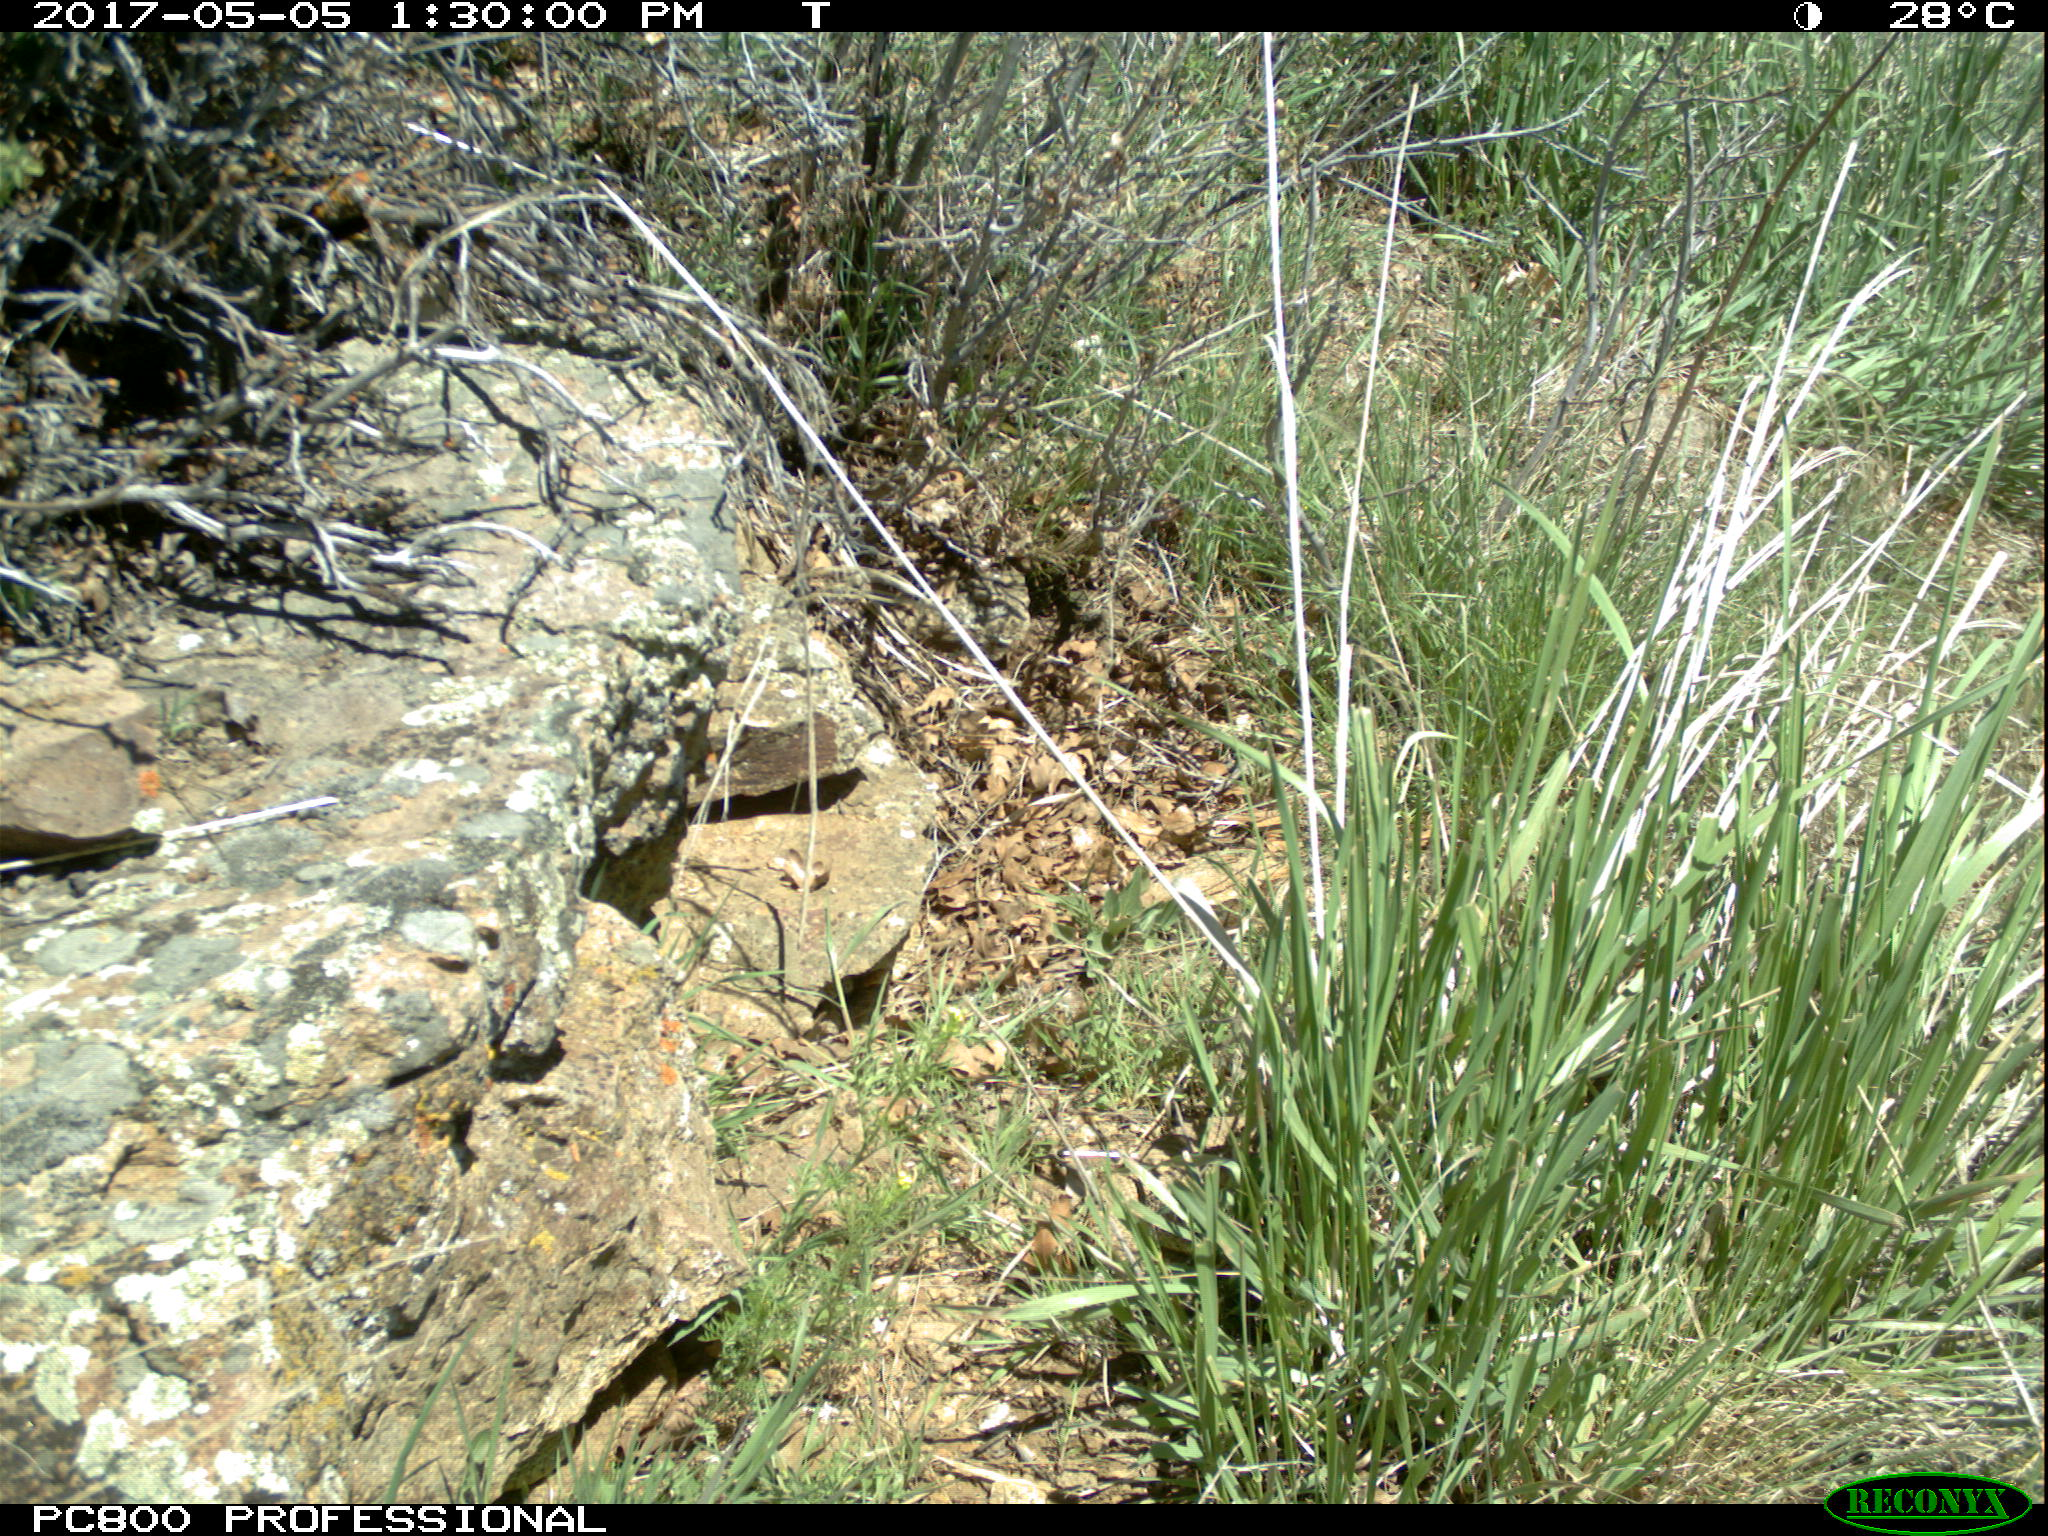snake: (539, 1355, 697, 1452)
